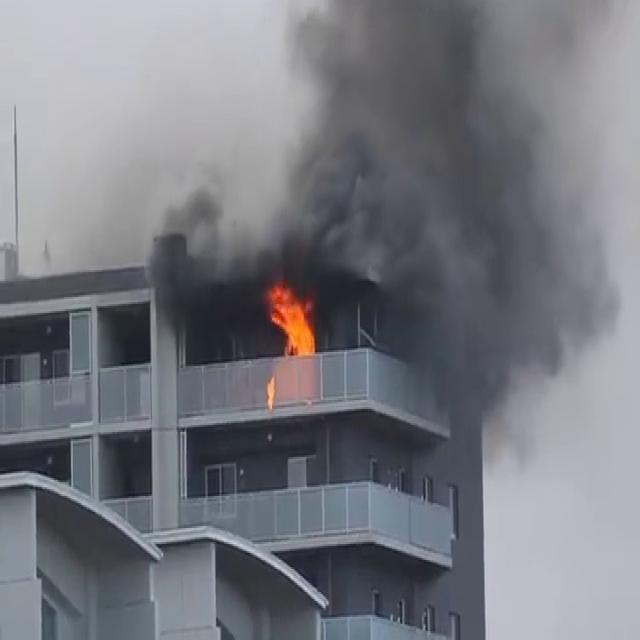Fire: (260, 277, 321, 359)
Smoke: (137, 0, 638, 370)
